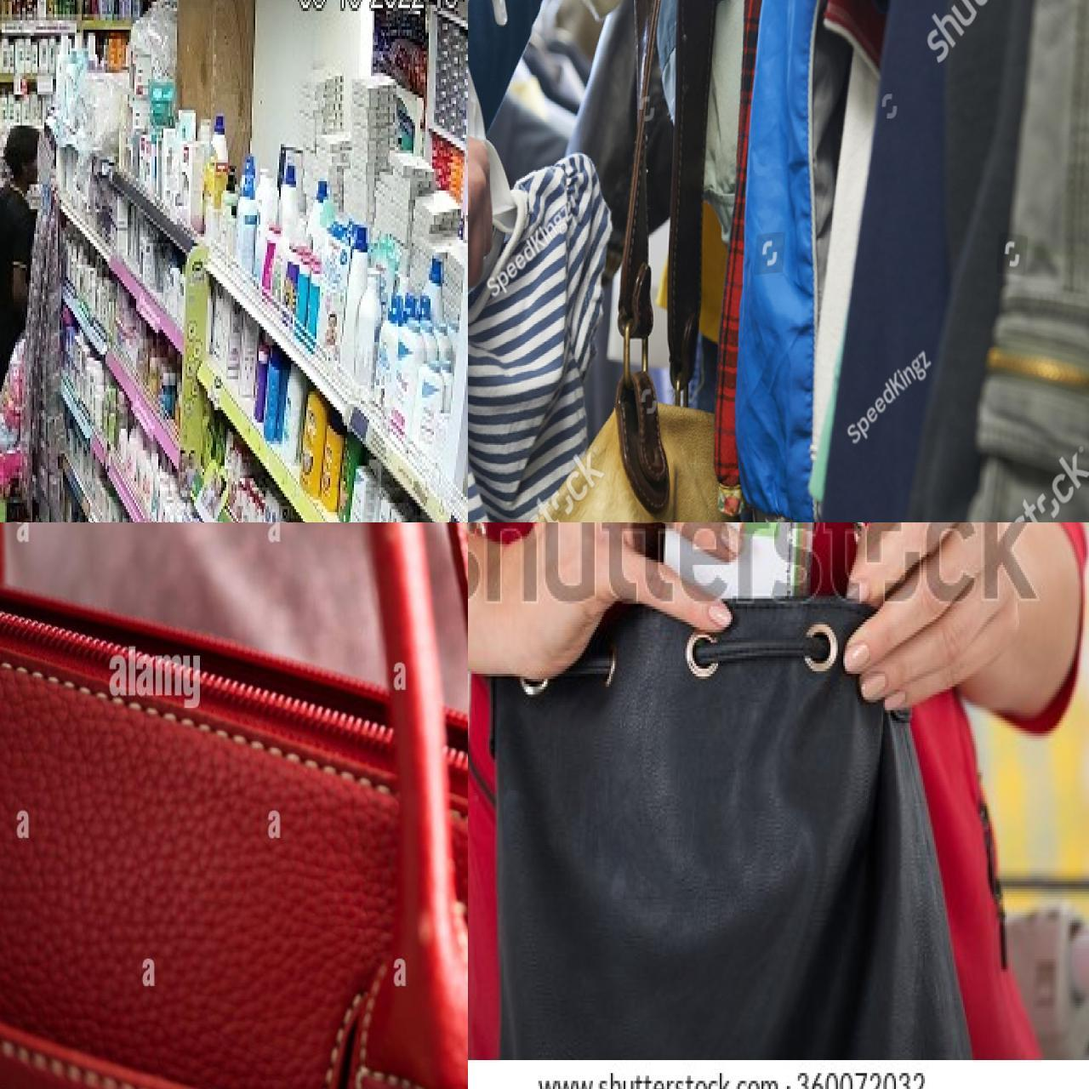shoplifting: (465, 523, 1089, 1089)
